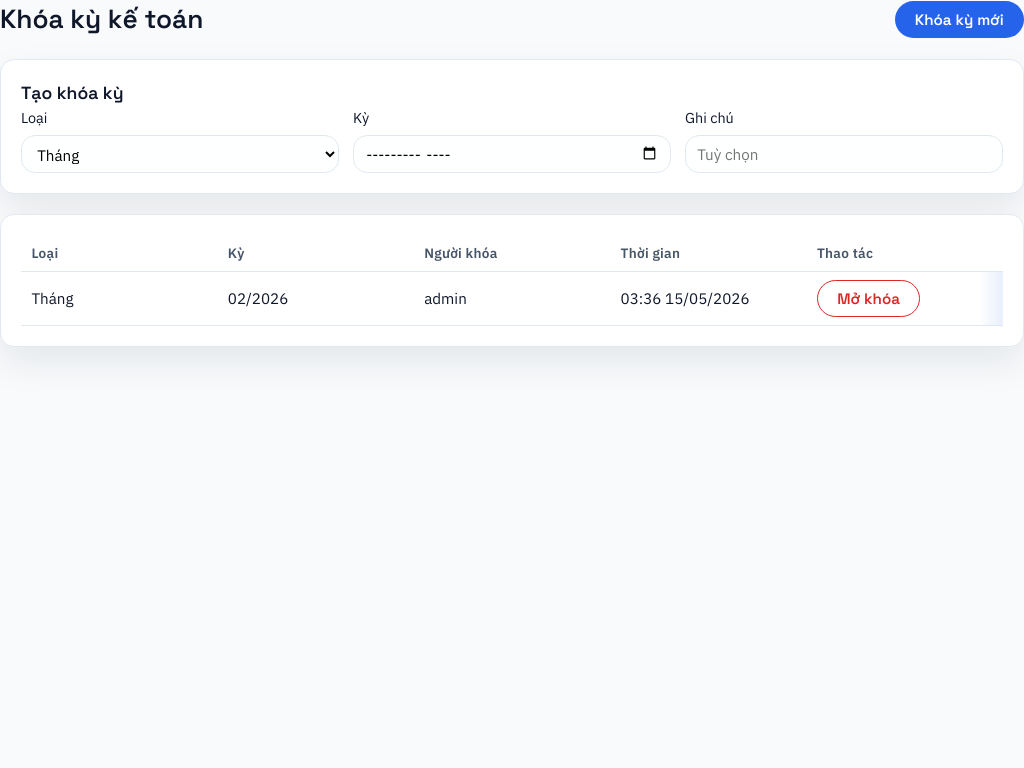
Test case: AdminPeriodLocksPage › opens unlock modal and requires reason
This screenshot has width=1024, height=768.
Click the button "Mở khóa".
click(869, 299)  # box x1=817 y1=280 x2=920 y2=317
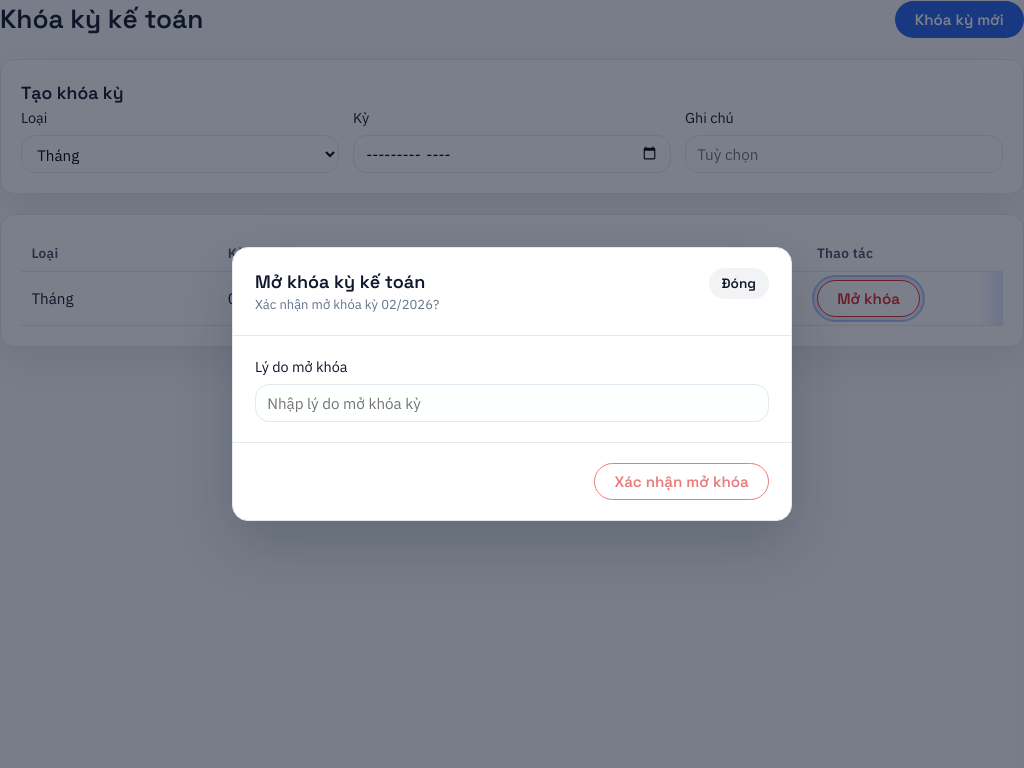
Check: the dialog shows "Mở khóa kỳ kế toán", box x1=255 y1=270 x2=425 y2=293
Check: the button "Xác nhận mở khóa" is disabled, box x1=594 y1=462 x2=769 y2=500
Type "Điều chỉnh số liệu" into the field labelled "Lý do mở khóa".
click(512, 402); type("Điều chỉnh số liệu")  # box x1=255 y1=384 x2=769 y2=422
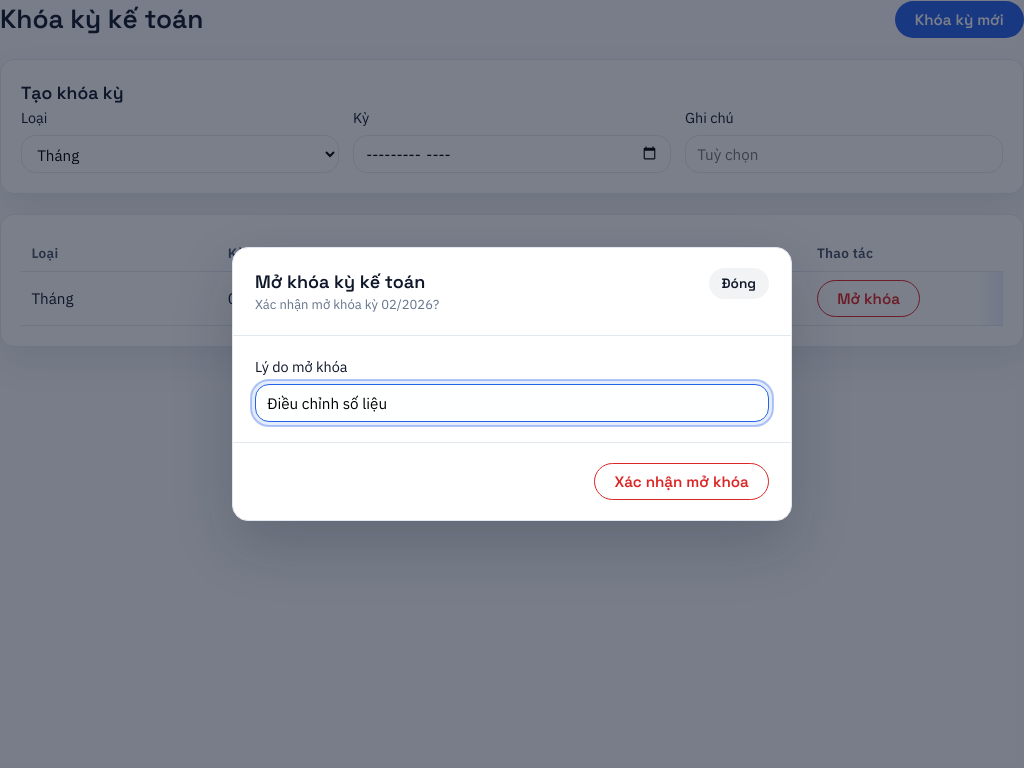
Check: the button "Xác nhận mở khóa" is enabled, box x1=594 y1=462 x2=769 y2=500
